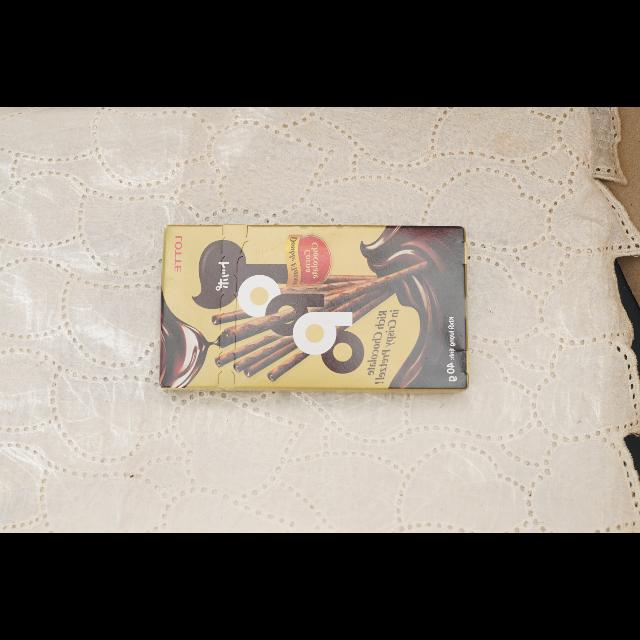banh_toppo_socola: (160, 224, 467, 390)
